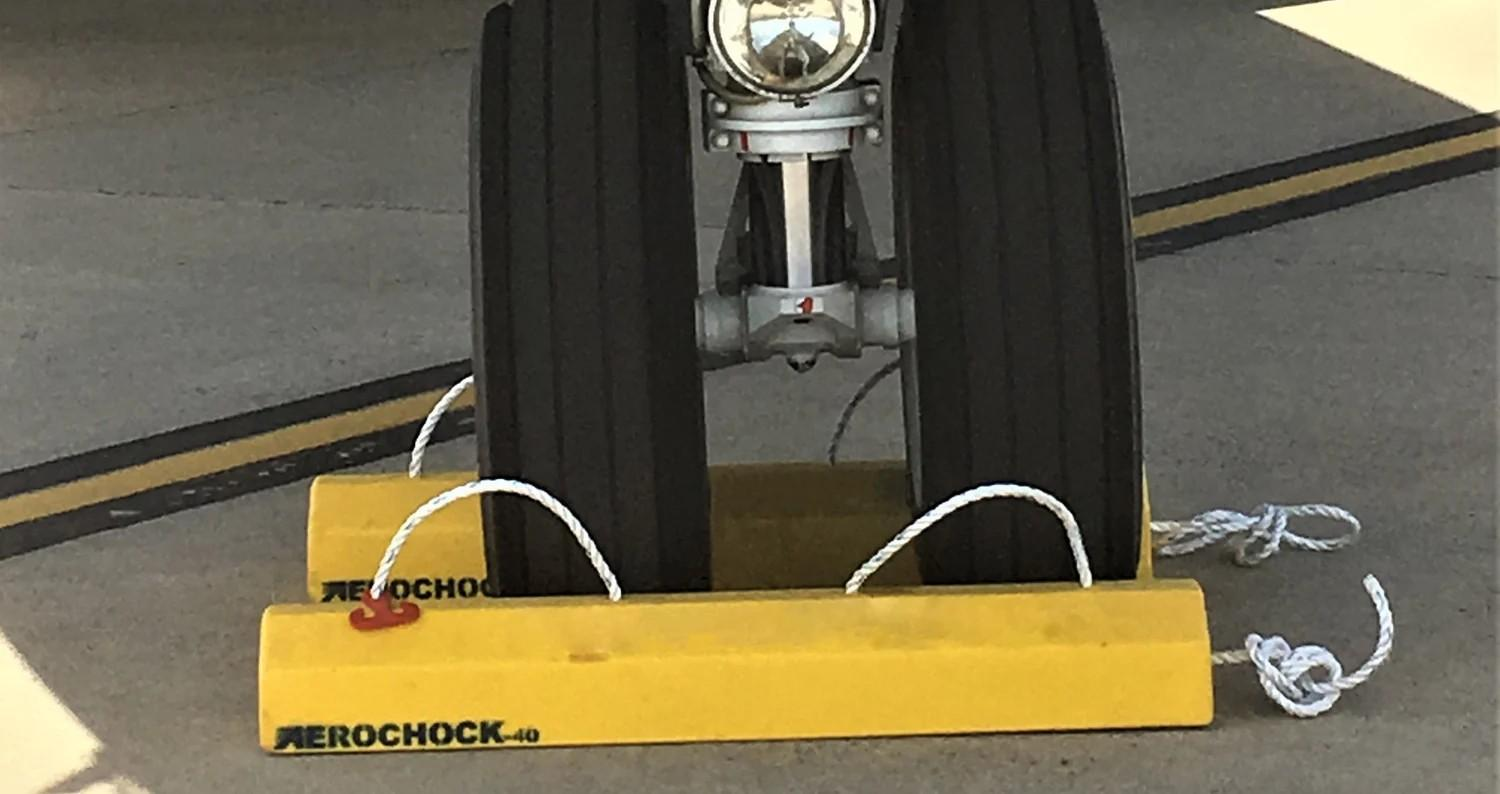chock: (248, 573, 1221, 758), (300, 454, 1172, 603)
wheel: (889, 0, 1139, 586), (465, 4, 699, 602)
